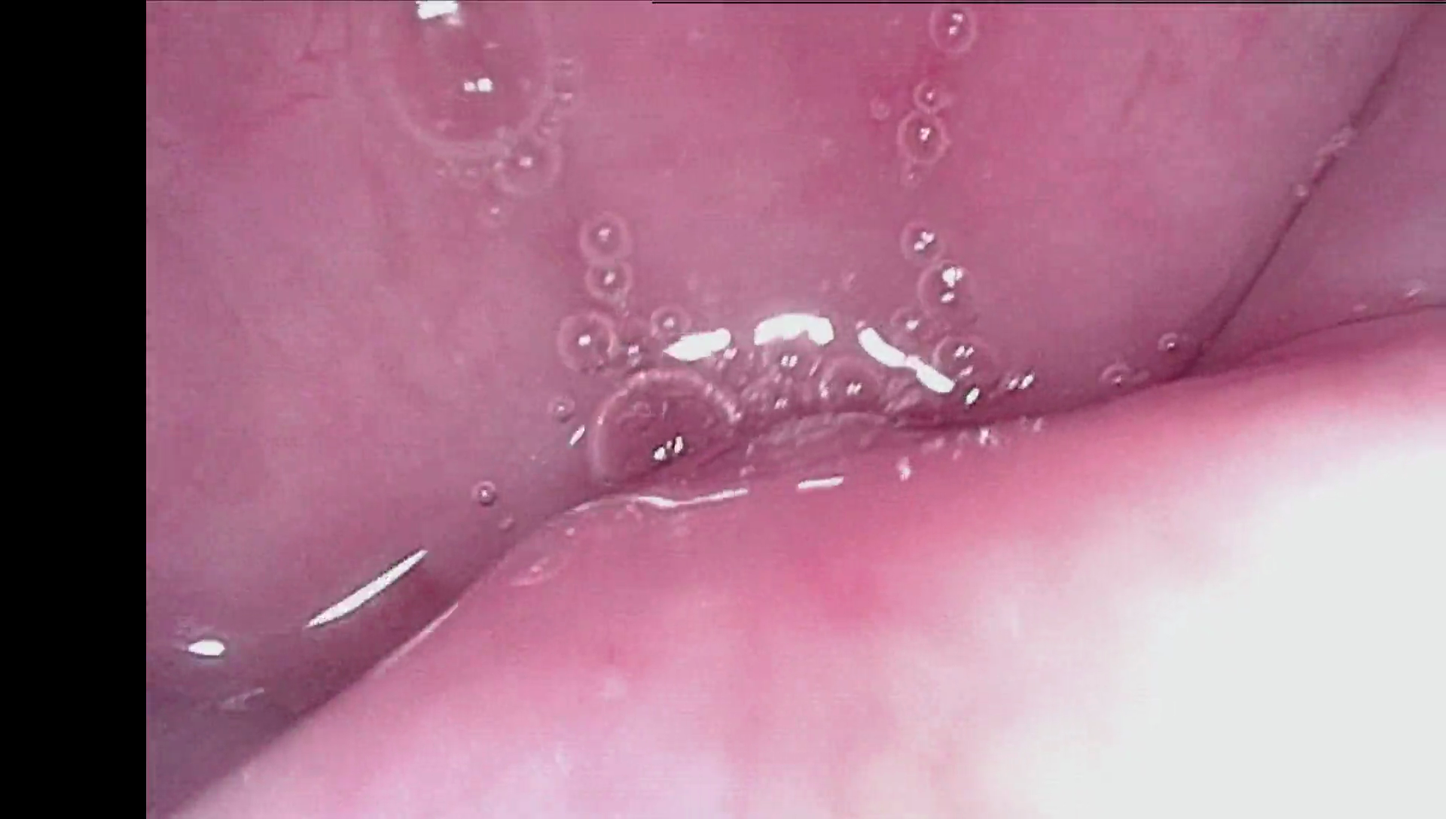close_wall: (798, 377, 1446, 819)
